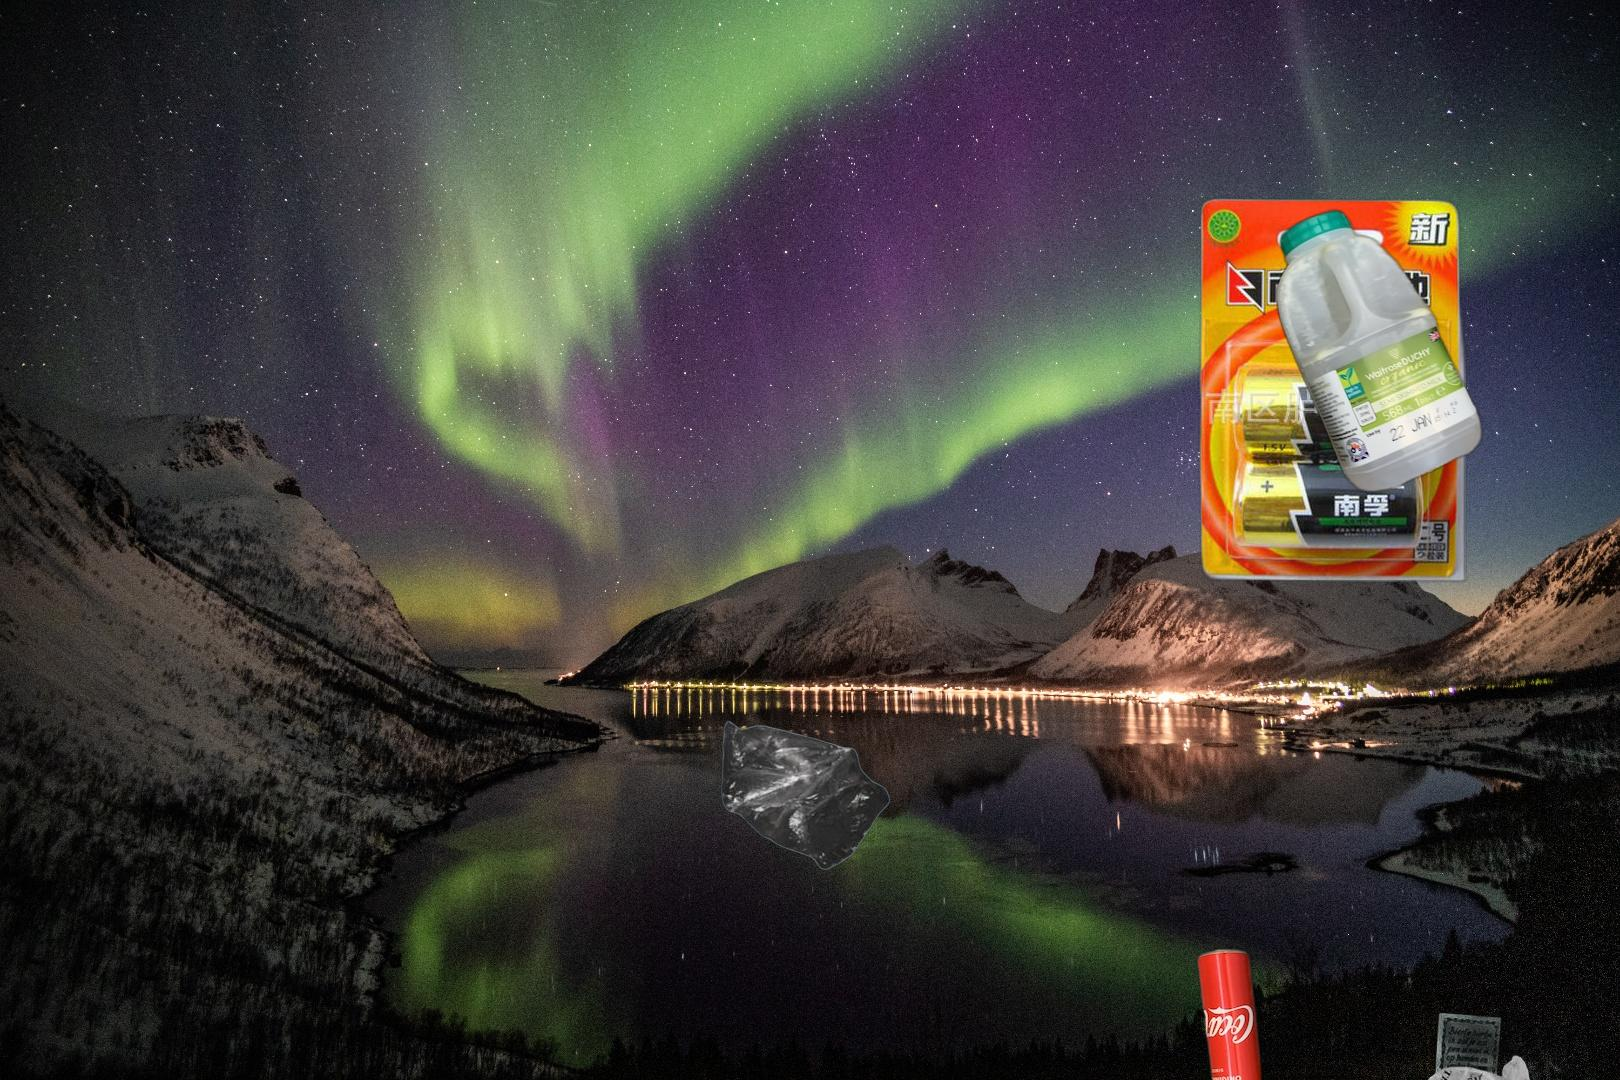battery: (1195, 194, 1473, 586)
metal-cans: (1192, 943, 1267, 1080)
plastic-bag: (718, 720, 891, 871), (1374, 993, 1595, 1080)
plastic-bottles: (1270, 202, 1486, 498)
